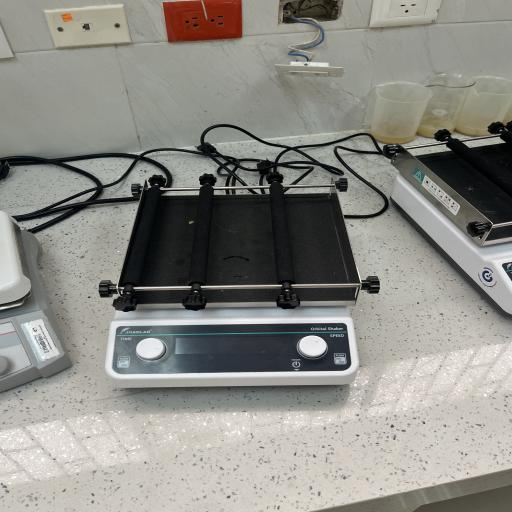Agitador_Orbital_DLAB: (94, 165, 394, 412)
